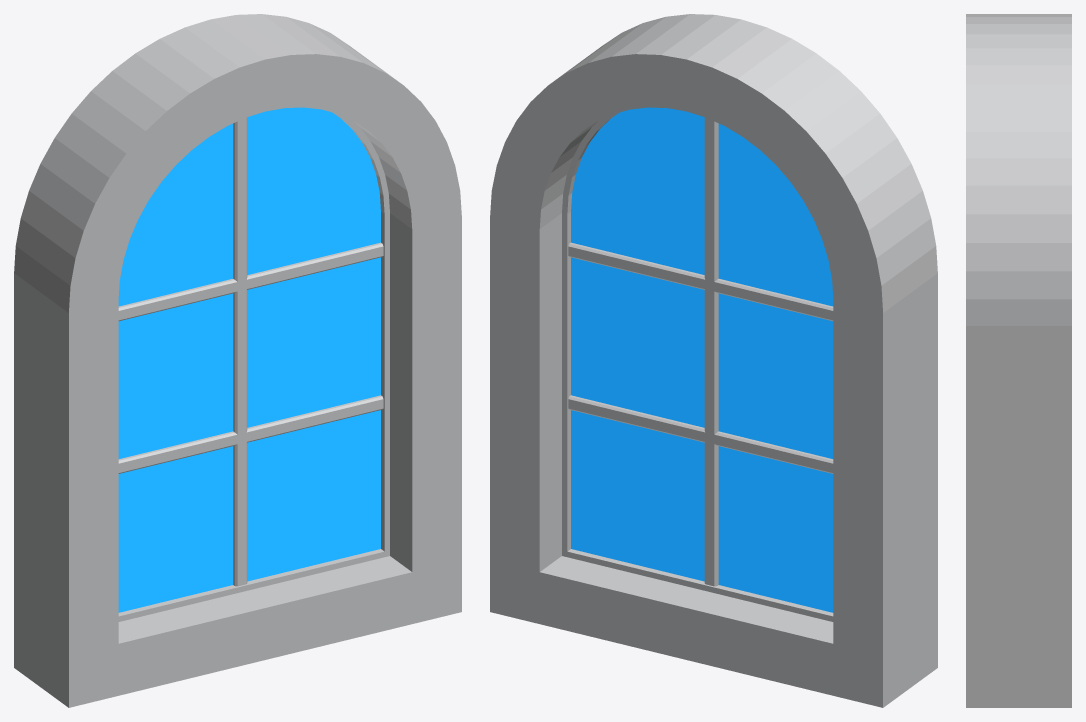
The model's file is janela_arco_2x3_branca.glb.
3 views of the same model, side by side, from view 1: azimuth 30°, elevation 25°; view 2: azimuth 150°, elevation 25°; view 3: azimuth 270°, elevation 25° (orthographic). The views are drawn at different scales.
Visible parts, largest first — view 1: janela_arco_2x3_branca; view 2: janela_arco_2x3_branca; view 3: janela_arco_2x3_branca.
Part boxes in pixels (x1,y1,x2,y2): janela_arco_2x3_branca: (14,14,461,707); janela_arco_2x3_branca: (490,14,937,707); janela_arco_2x3_branca: (966,14,1071,707).
Bounding box in the file's own units: 0.87 × 1.27 × 0.21.
